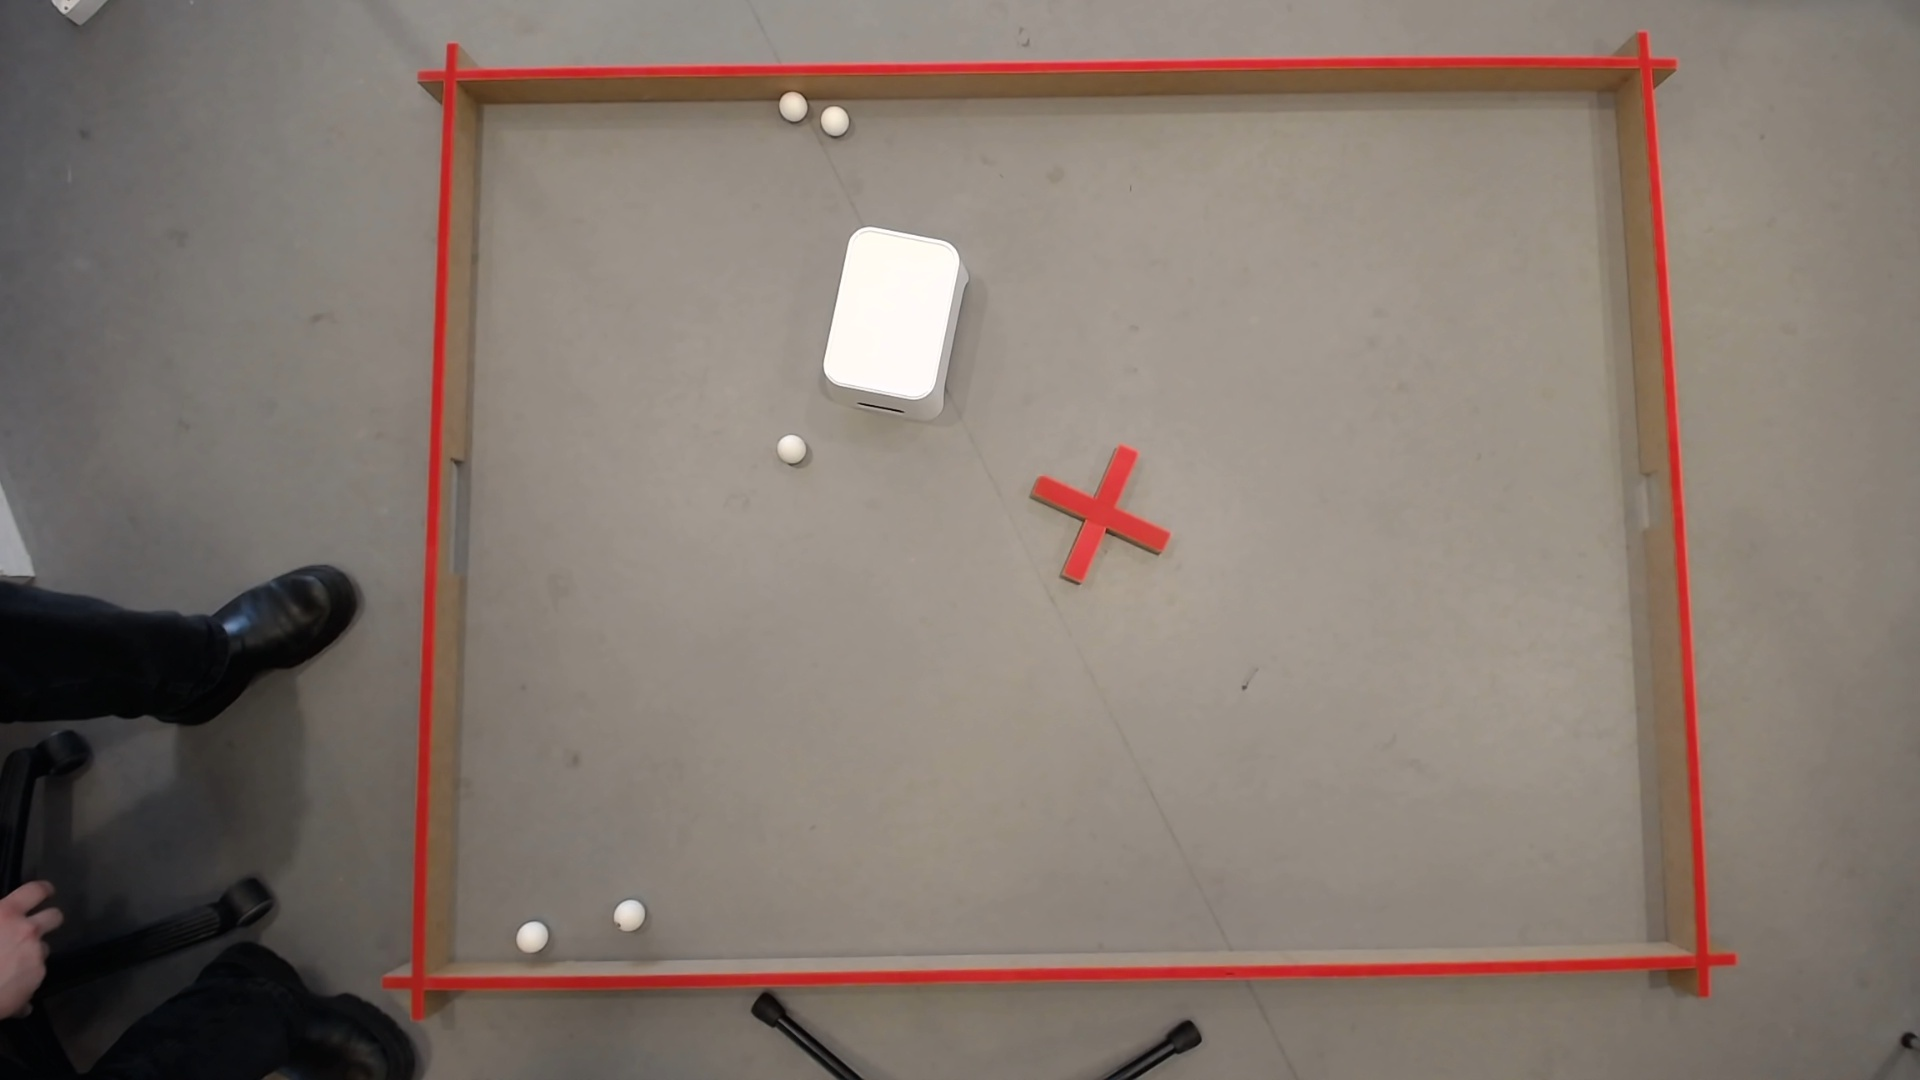balls: (818, 220, 963, 404), (513, 916, 547, 951), (611, 895, 644, 926), (818, 102, 849, 132), (774, 430, 804, 459)
car: (778, 90, 806, 117)
